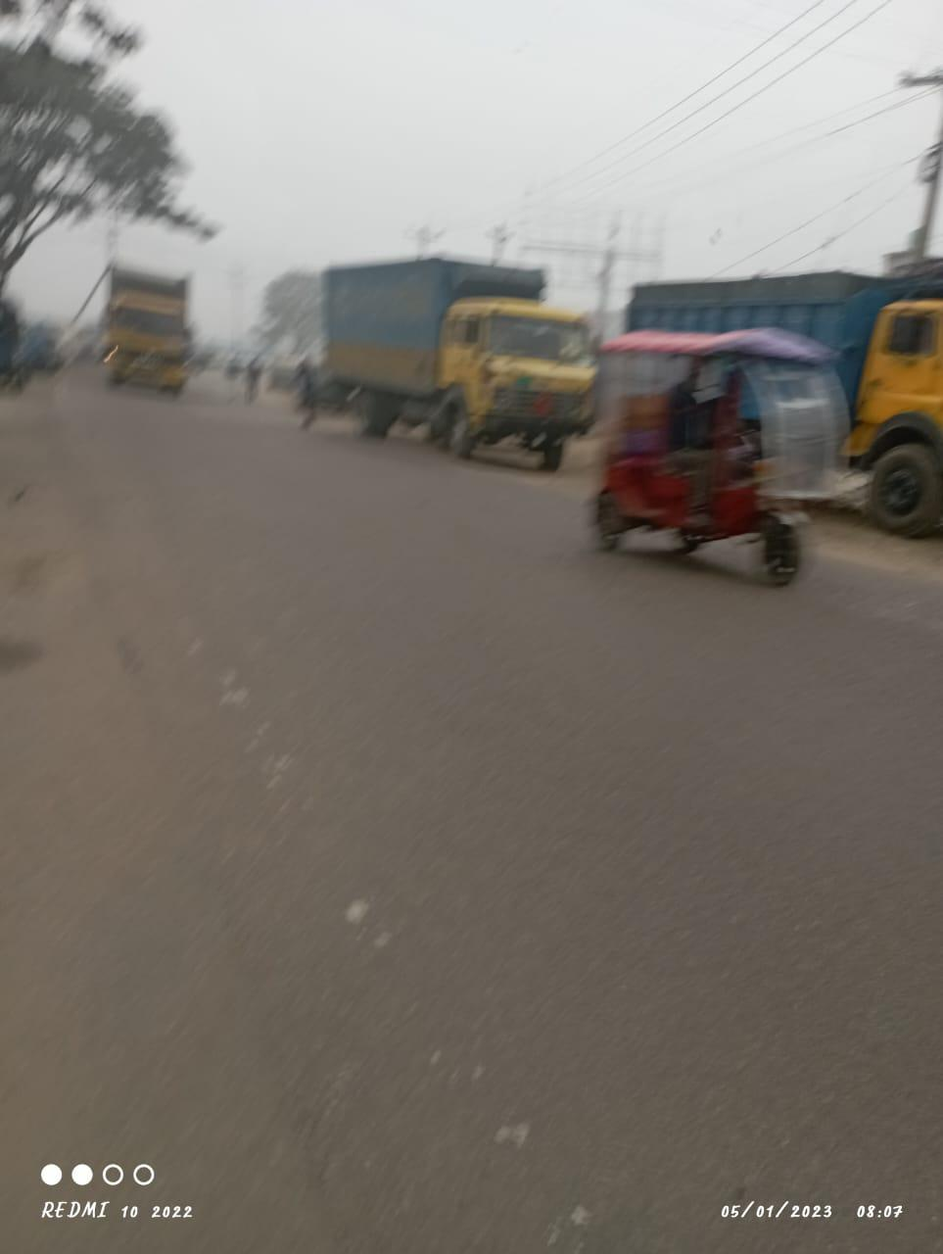Car: (589, 320, 847, 599)
Truck: (627, 259, 943, 542), (319, 247, 596, 470)
